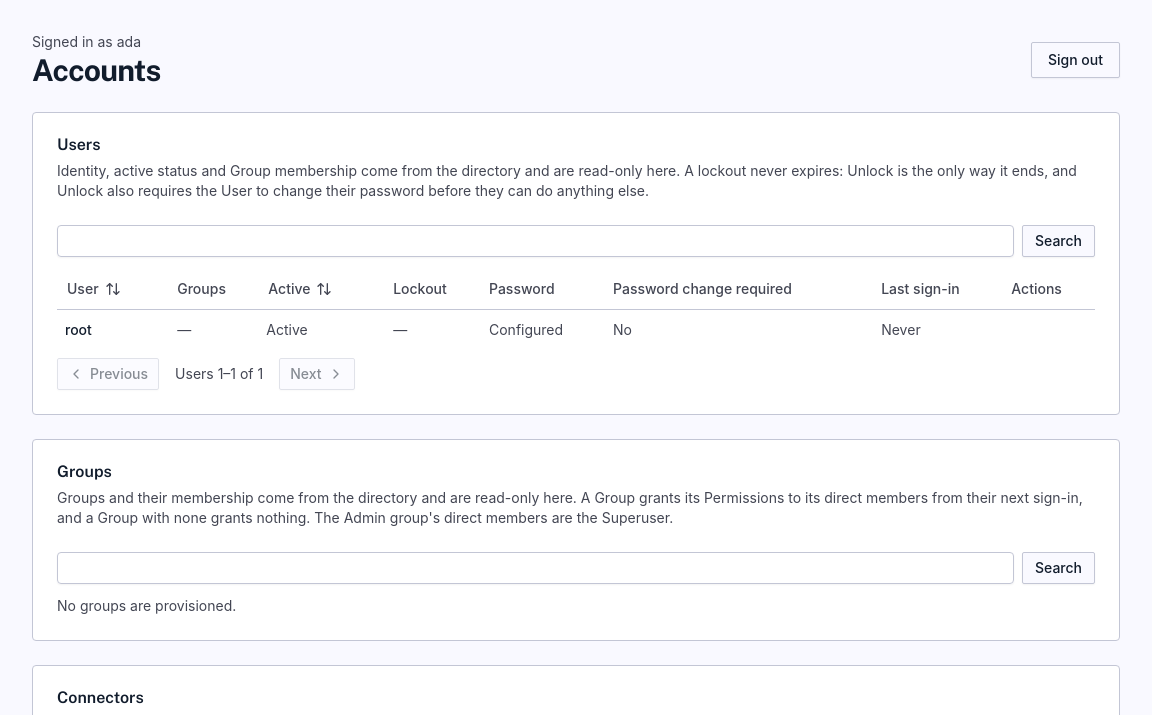
Test: Accounts › shows the Bootstrap Admin with no lockout state and no Unlock
The image size is (1152, 715).
Expected: the column heading "root" is shown, [57, 310, 169, 350]
USER_COLUMNS, less the rowheader: Groups, Active, Lockout, …
Focus the text "—" at (400, 329), box [393, 320, 407, 338]
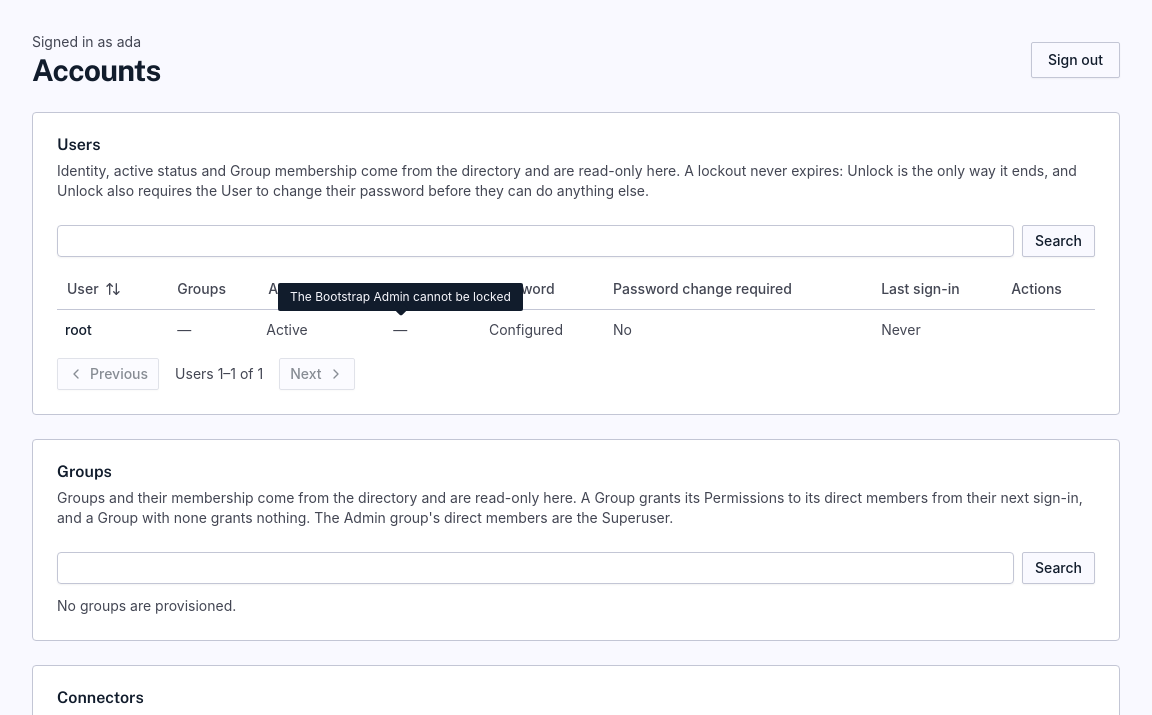
Expected: the tooltip reads "The Bootstrap Admin cannot be locked", [290, 289, 511, 304]
